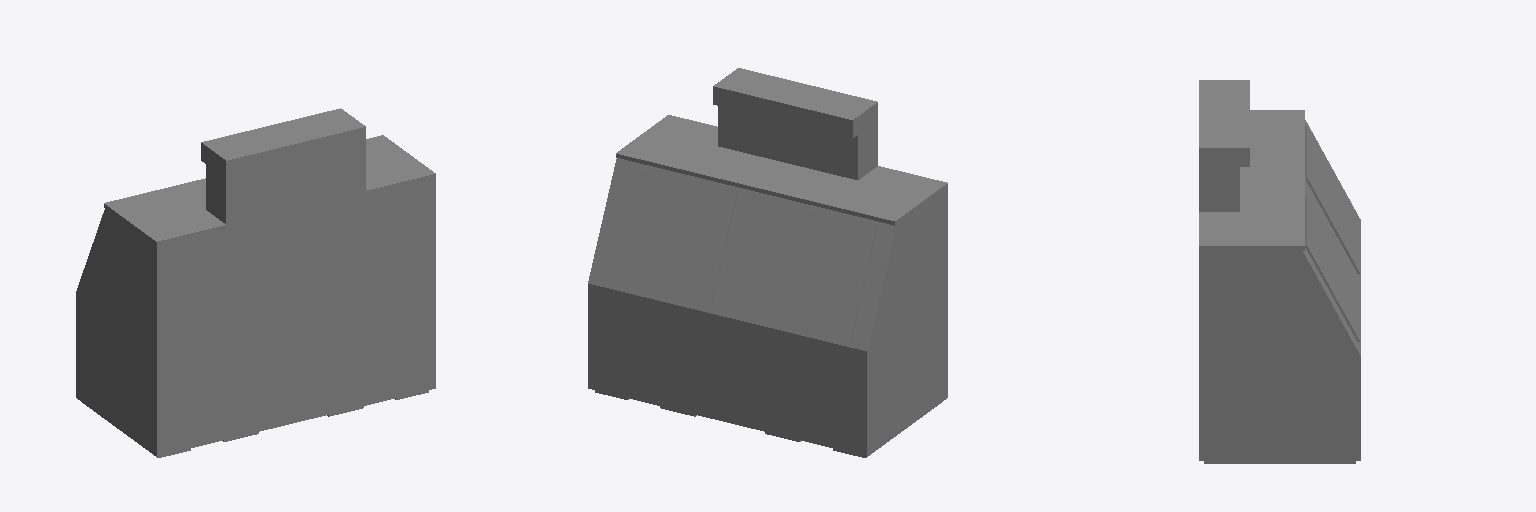
Rendered from SM_IceBox.obj.
3 views of the same model, side by side, from view 1: azimuth 30°, elevation 25°; view 2: azimuth 150°, elevation 25°; view 3: azimuth 270°, elevation 25° (orthographic).
Visible parts, largest first — view 1: IceBox; view 2: IceBox; view 3: IceBox.
Boxes of the visible parts, x1=… form: IceBox: x1=76, y1=108, x2=435, y2=457; IceBox: x1=588, y1=68, x2=947, y2=457; IceBox: x1=1199, y1=80, x2=1360, y2=463.
Size of the model in its own units: 64 by 62 by 32.